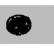correct: (4, 14, 38, 39)
